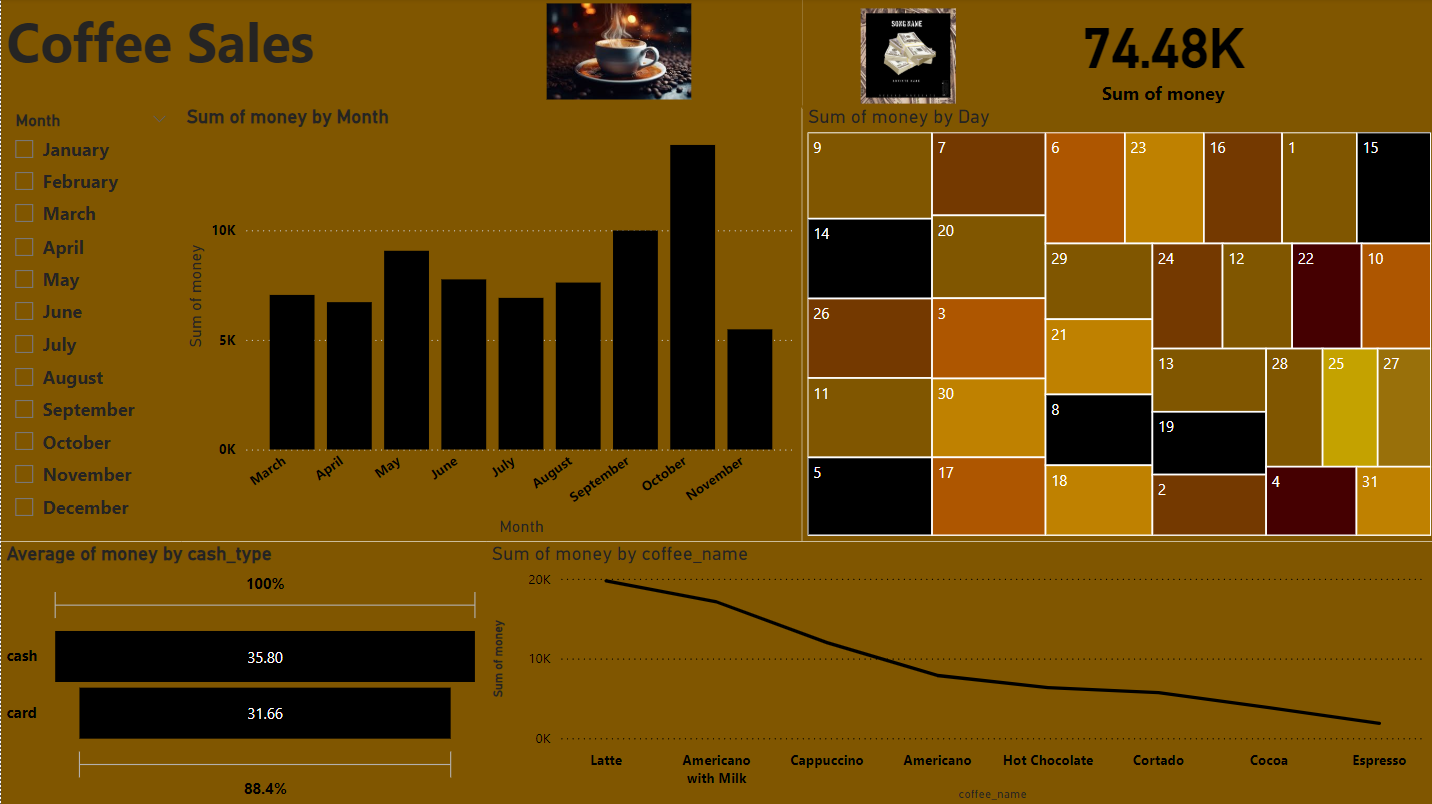

Layout of this report page (visuals, bound fields, positions):
{"tool":"powerbi","page":{"name":"Page 1","canvas":[1280,720],"ordinal":0},"visuals":[{"type":"textbox","box":[0,0,713.6,97.4],"z":0,"group":"g1"},{"type":"card","fields":{"Values":["Sum(index.money)"]},"box":[791.7,0,487.2,98.8],"z":0,"group":"g2"},{"type":"slicer","fields":{"Values":["index.date.Variation.Date Hierarchy.Month"]},"box":[0,96.1,160.5,388.3],"z":0},{"type":"image","box":[713.6,4,188.5,94.8],"z":6,"group":"g2"},{"type":"image","box":[467.4,0,165.4,95.7],"z":1000,"group":"g1"},{"type":"funnel","fields":{"Y":["Avg(index.money)"],"Category":["index.cash_type"]},"box":[0,484.4,432.2,236],"z":1000},{"type":"group","id":"g1","title":"Group 1","box":[0,0,713.6,96.1],"z":2000},{"type":"group","id":"g2","title":"Group 2","box":[713.6,0,565.4,98.8],"z":3000},{"type":"lineChart","fields":{"Category":["index.coffee_name"],"Y":["Sum(index.money)"]},"box":[431.9,484.2,847.1,236],"z":4000},{"type":"columnChart","fields":{"Category":["index.date.Variation.Date Hierarchy.Month"],"Y":["Sum(index.money)"]},"box":[160.5,96.1,553,388.3],"z":5000},{"type":"treemap","fields":{"Values":["Sum(index.money)"],"Group":["index.date.Variation.Date Hierarchy.Day"]},"box":[714,96,565,388],"z":6000}]}

Visuals, with their boxes in screenshot pixels (x1, y1, x2, y2), scaled from the page's 1280x720 canvas onto the 1432x804 screenshot:
textbox: <box>0,0,798,109</box>
card - Sum(index.money): <box>886,0,1431,110</box>
slicer - index.date.Variation.Date Hierarchy.Month: <box>0,107,180,541</box>
image: <box>798,4,1009,110</box>
image: <box>523,0,708,107</box>
funnel - Avg(index.money) x index.cash_type: <box>0,541,484,803</box>
"Group 1" group: <box>0,0,798,107</box>
"Group 2" group: <box>798,0,1431,110</box>
lineChart - index.coffee_name x Sum(index.money): <box>483,541,1431,803</box>
columnChart - index.date.Variation.Date Hierarchy.Month x Sum(index.money): <box>180,107,798,541</box>
treemap - Sum(index.money) x index.date.Variation.Date Hierarchy.Day: <box>799,107,1431,540</box>
